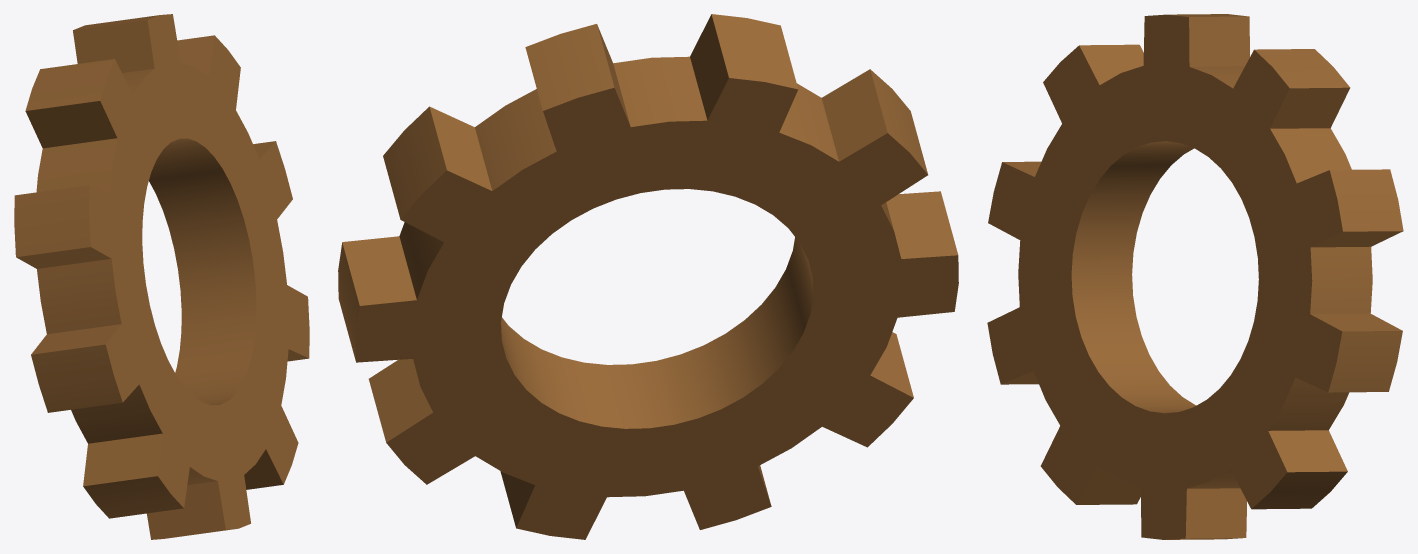
File: gear.gltf
3 views of the same model, side by side, from view 1: azimuth 30°, elevation 25°; view 2: azimuth 150°, elevation 25°; view 3: azimuth 270°, elevation 25° (orthographic). The views are drawn at different scales.
Parts seen in each view (by area): view 1: Collectible_Gear; view 2: Collectible_Gear; view 3: Collectible_Gear.
Part boxes in pixels (x1,y1,x2,y2): Collectible_Gear: [14, 14, 309, 539]; Collectible_Gear: [338, 14, 958, 539]; Collectible_Gear: [987, 14, 1403, 539].
Size of the model in its own units: 0.3511 by 0.3967 by 0.3182.
